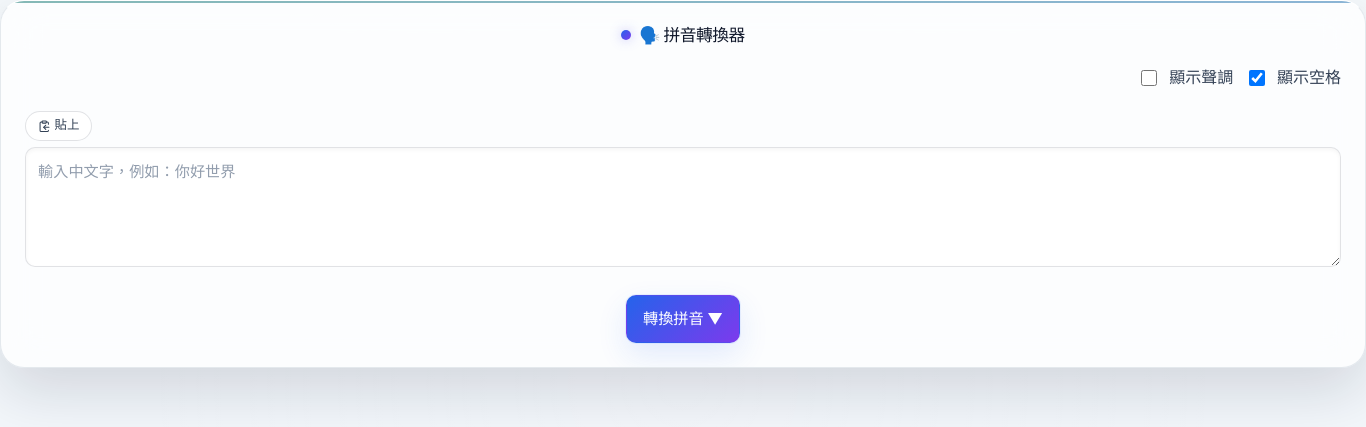
Scenario: PinyinConverter.vue › 操作功能 › 點擊貼上按鈕應更新輸入
Step 1. Click the button "貼上" → (59, 126), box x1=25 y1=111 x2=92 y2=141
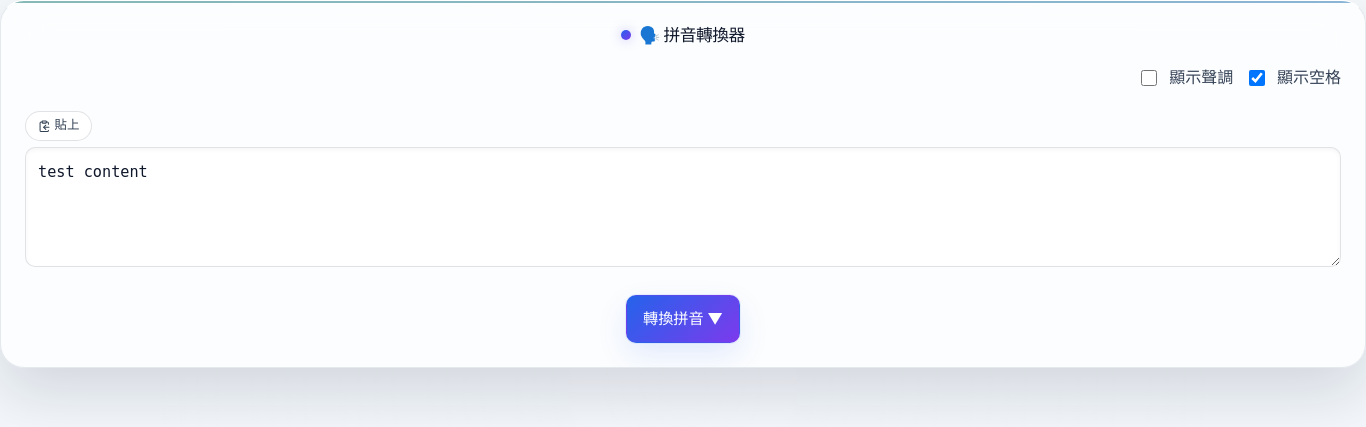
Now the text box named "輸入要轉換的中文字" holds "test content", box x1=25 y1=147 x2=1341 y2=267
